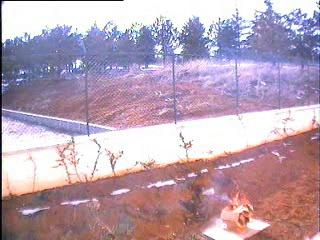fire: (225, 184, 252, 222)
